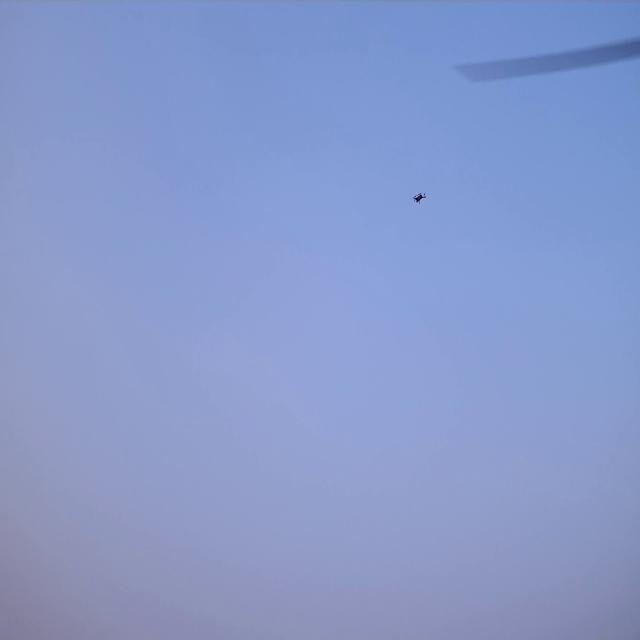UAV: (414, 194, 425, 202)
